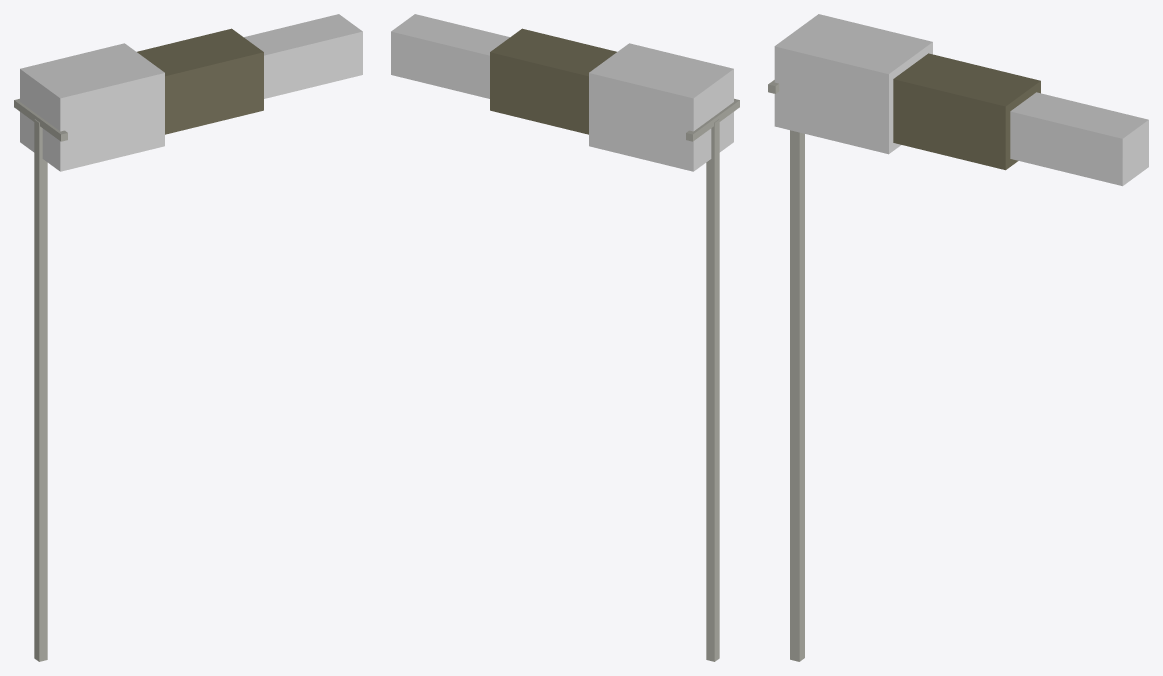
File: SM_MangaViento_v0_Inflada_LOD0.fbx
3 renders of one model, left to right at view 1: azimuth 30°, elevation 25°; view 2: azimuth 150°, elevation 25°; view 3: azimuth 330°, elevation 25°, orthographic. The views are drawn at different scales.
Parts seen in each view (by area): view 1: SM_ambiente_aerodromo_v0_LOD0; view 2: SM_ambiente_aerodromo_v0_LOD0; view 3: SM_ambiente_aerodromo_v0_LOD0.
Boxes of the visible parts, bbox=[...] form: SM_ambiente_aerodromo_v0_LOD0: bbox=[14, 14, 362, 661]; SM_ambiente_aerodromo_v0_LOD0: bbox=[391, 14, 739, 661]; SM_ambiente_aerodromo_v0_LOD0: bbox=[768, 14, 1148, 661].
Size of the model in its own units: 3.66 by 6.41 by 0.95.
